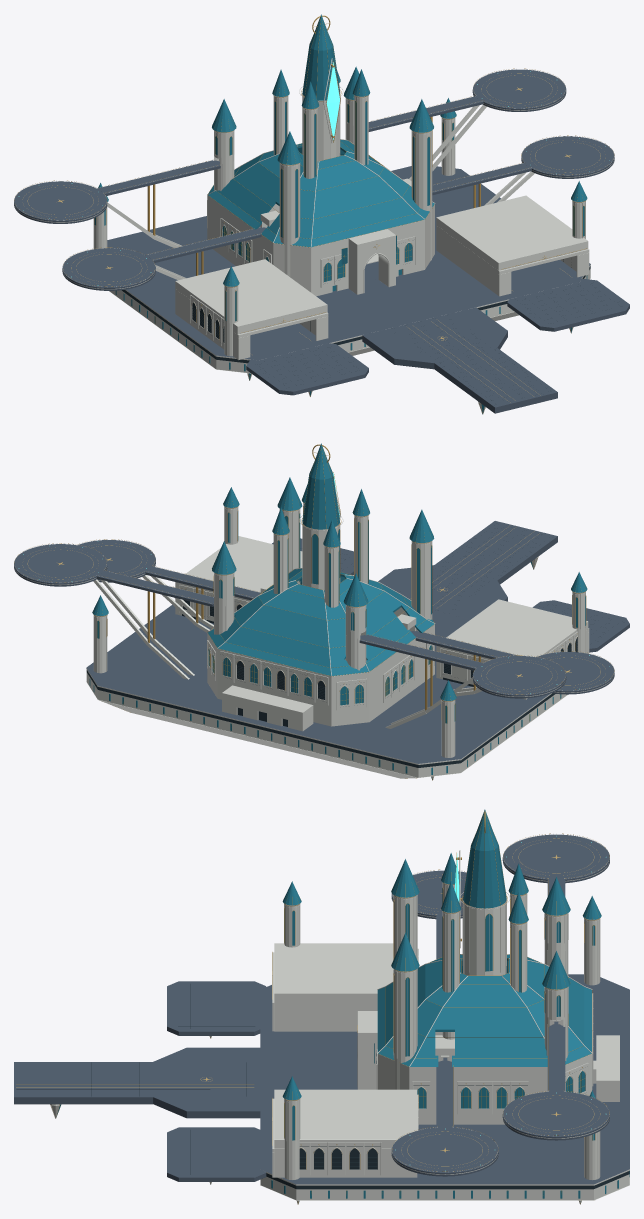
The model's file is NSP01-preview.glb.
3 renders of one model, top to bottom at view 1: azimuth 30°, elevation 25°; view 2: azimuth 150°, elevation 25°; view 3: azimuth 270°, elevation 25°, orthographic. The views are drawn at different scales.
Visible parts, largest first — view 1: NSP01.L0.Hull.1, NSP01.L0.Terminal.9, NSP01.L0.Hangar.E.48, NSP01.L0.Terminal.8, NSP01.L0.Hangar.W.32, NSP01.L0.Dock.W.HIGH.17, NSP01.L0.Dock.W.LOW.12, NSP01.L0.Dock.E.HIGH.27, NSP01.L0.Dock.E.LOW.22, NSP01.L0.Hangar.E.3, NSP01.L0.Hangar.W.2, NSP01.L0.Hull.5 (+23 smaller); view 2: NSP01.L0.Hull.1, NSP01.L0.Terminal.9, NSP01.L0.Terminal.8, NSP01.L0.Hangar.W.32, NSP01.L0.Hull.5, NSP01.L0.Dock.W.HIGH.17, NSP01.L0.Dock.E.HIGH.27, NSP01.L0.Facade.Rear.116, NSP01.L0.Hangar.E.48, NSP01.L0.Dock.W.LOW.12, NSP01.L0.Dock.E.LOW.22, NSP01.L0.NSP01.Spire.Central.65 (+31 smaller); view 3: NSP01.L0.Hull.1, NSP01.L0.Terminal.9, NSP01.L0.Hangar.E.48, NSP01.L0.Hangar.W.32, NSP01.L0.Terminal.8, NSP01.L0.Dock.E.HIGH.27, NSP01.L0.Dock.E.LOW.22, NSP01.L0.Hangar.E.3, NSP01.L0.Hangar.W.2, NSP01.L0.Hull.5, NSP01.L0.Dock.W.HIGH.17, NSP01.L0.NSP01.Spire.Central.65 (+25 smaller).
Boxes of the visible parts, bbox=[...] form: NSP01.L0.Hull.1: bbox=[107, 166, 590, 413]; NSP01.L0.Terminal.9: bbox=[208, 139, 434, 291]; NSP01.L0.Hangar.E.48: bbox=[436, 195, 589, 296]; NSP01.L0.Terminal.8: bbox=[207, 139, 435, 296]; NSP01.L0.Hangar.W.32: bbox=[175, 259, 328, 359]; NSP01.L0.Dock.W.HIGH.17: bbox=[14, 160, 220, 223]; NSP01.L0.Dock.W.LOW.12: bbox=[62, 227, 264, 290]; NSP01.L0.Dock.E.HIGH.27: bbox=[368, 69, 566, 131]; NSP01.L0.Dock.E.LOW.22: bbox=[432, 136, 614, 195]; NSP01.L0.Hangar.E.3: bbox=[507, 279, 629, 331]; NSP01.L0.Hangar.W.2: bbox=[246, 343, 368, 395]; NSP01.L0.Hull.5: bbox=[109, 264, 590, 413]; NSP01.L0.Hull.1: bbox=[86, 521, 557, 763]; NSP01.L0.Terminal.9: bbox=[208, 568, 434, 675]; NSP01.L0.Terminal.8: bbox=[207, 568, 435, 731]; NSP01.L0.Hangar.W.32: bbox=[436, 599, 589, 699]; NSP01.L0.Hull.5: bbox=[86, 556, 567, 777]; NSP01.L0.Dock.W.HIGH.17: bbox=[359, 635, 566, 698]; NSP01.L0.Dock.E.HIGH.27: bbox=[14, 544, 213, 606]; NSP01.L0.Facade.Rear.116: bbox=[207, 640, 366, 710]; NSP01.L0.Hangar.E.48: bbox=[175, 536, 302, 621]; NSP01.L0.Dock.W.LOW.12: bbox=[412, 631, 614, 694]; NSP01.L0.Dock.E.LOW.22: bbox=[78, 540, 260, 600]; NSP01.L0.NSP01.Spire.Central.65: bbox=[302, 443, 339, 584]; NSP01.L0.Hull.1: bbox=[14, 974, 629, 1184]; NSP01.L0.Terminal.9: bbox=[377, 954, 591, 1066]; NSP01.L0.Hangar.E.48: bbox=[272, 1089, 418, 1177]; NSP01.L0.Hangar.W.32: bbox=[272, 943, 418, 1031]; NSP01.L0.Terminal.8: bbox=[357, 950, 619, 1124]; NSP01.L0.Dock.E.HIGH.27: bbox=[502, 1027, 609, 1140]; NSP01.L0.Dock.E.LOW.22: bbox=[391, 1063, 498, 1176]; NSP01.L0.Hangar.E.3: bbox=[167, 1127, 266, 1181]; NSP01.L0.Hangar.W.2: bbox=[167, 981, 266, 1035]; NSP01.L0.Hull.5: bbox=[50, 1104, 629, 1200]; NSP01.L0.Dock.W.HIGH.17: bbox=[502, 834, 609, 896]; NSP01.L0.NSP01.Spire.Central.65: bbox=[463, 809, 506, 971].
Bounding box in the file's own units: 720 × 356 × 620.
